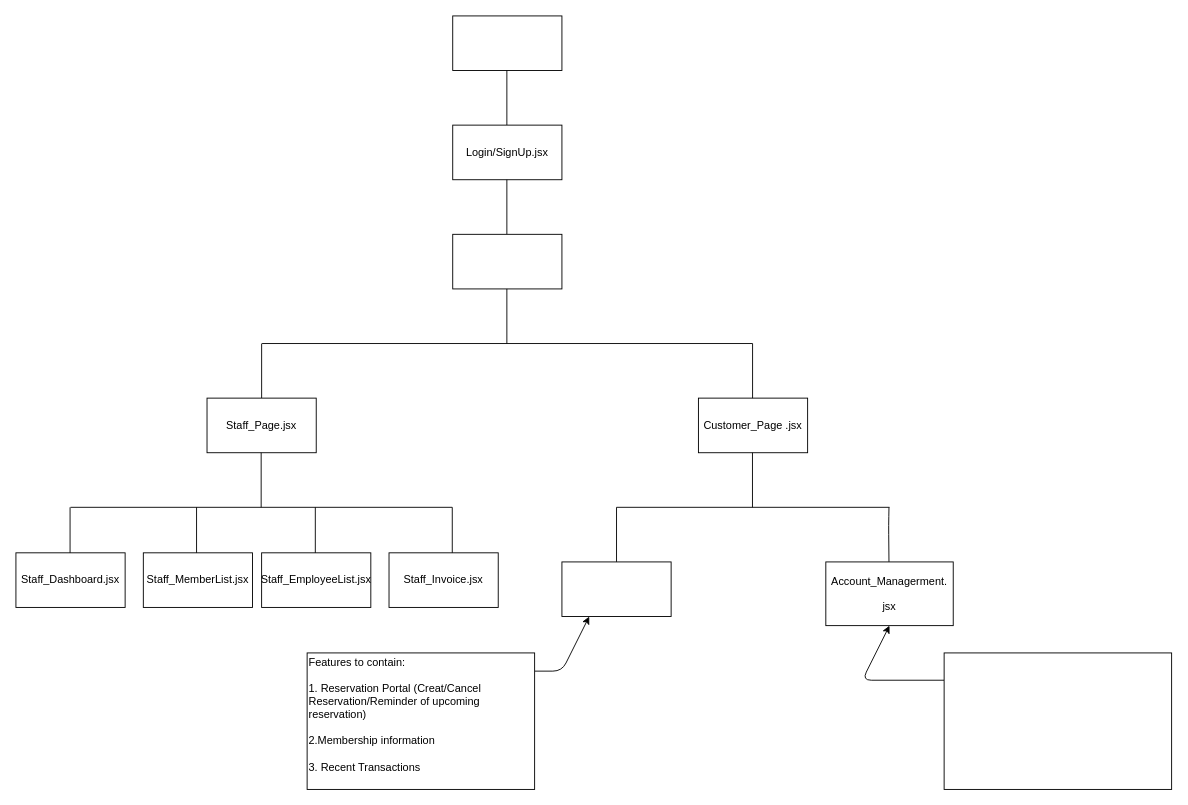
Image size: 1188x805. Some labels were removed from this diagram. Here are the shapes that lost their labels. From the top down, the centre of each, then its label:
At point 507,43: "App.jsx".
At point 507,261: "Display.jsx".
At point 616,589: "Customer_Dashboard .jsx".
At point 1057,720: "Features to contain: 1. Allow for editing of customer information.".
